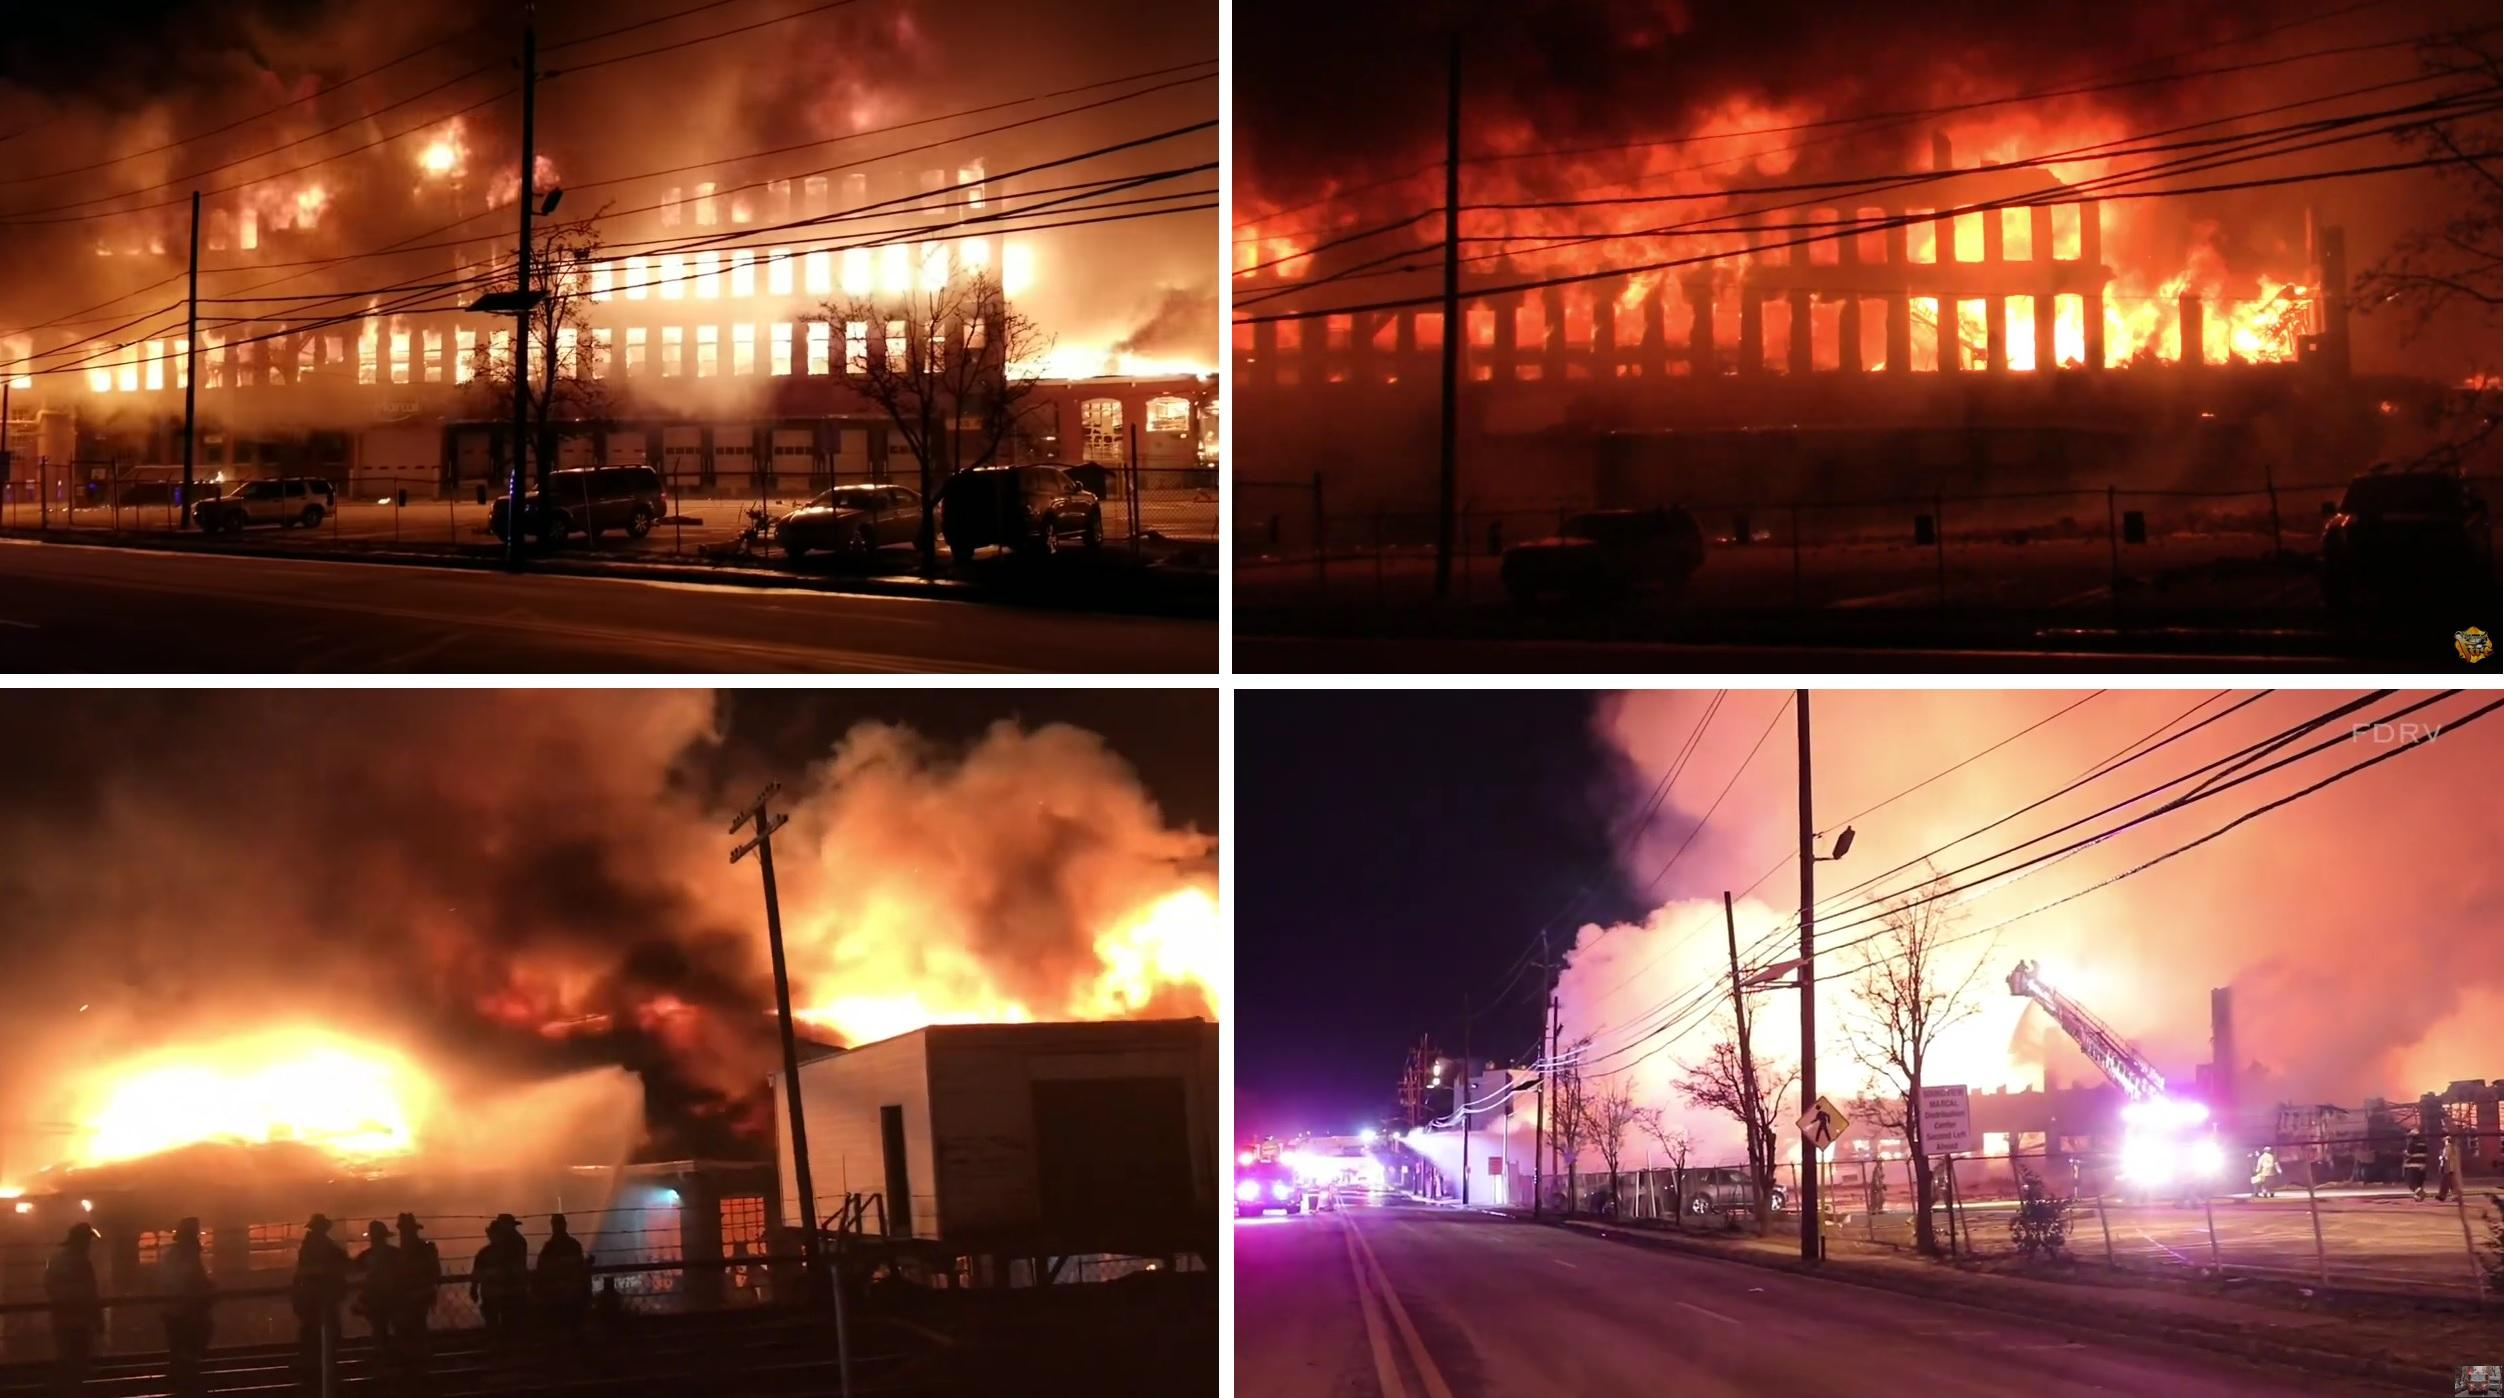Fire: (1888, 141, 2325, 389), (60, 1020, 452, 1186), (526, 212, 1059, 323), (985, 320, 1206, 421), (9, 316, 224, 406)
